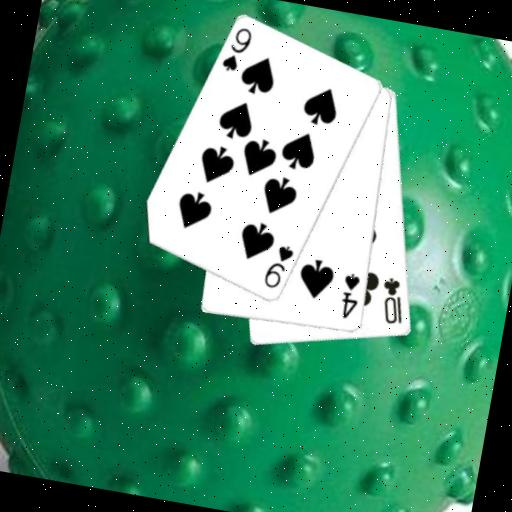10C: (374, 273, 411, 328)
4S: (335, 270, 365, 323)
9S: (218, 21, 255, 76), (259, 239, 296, 293)
